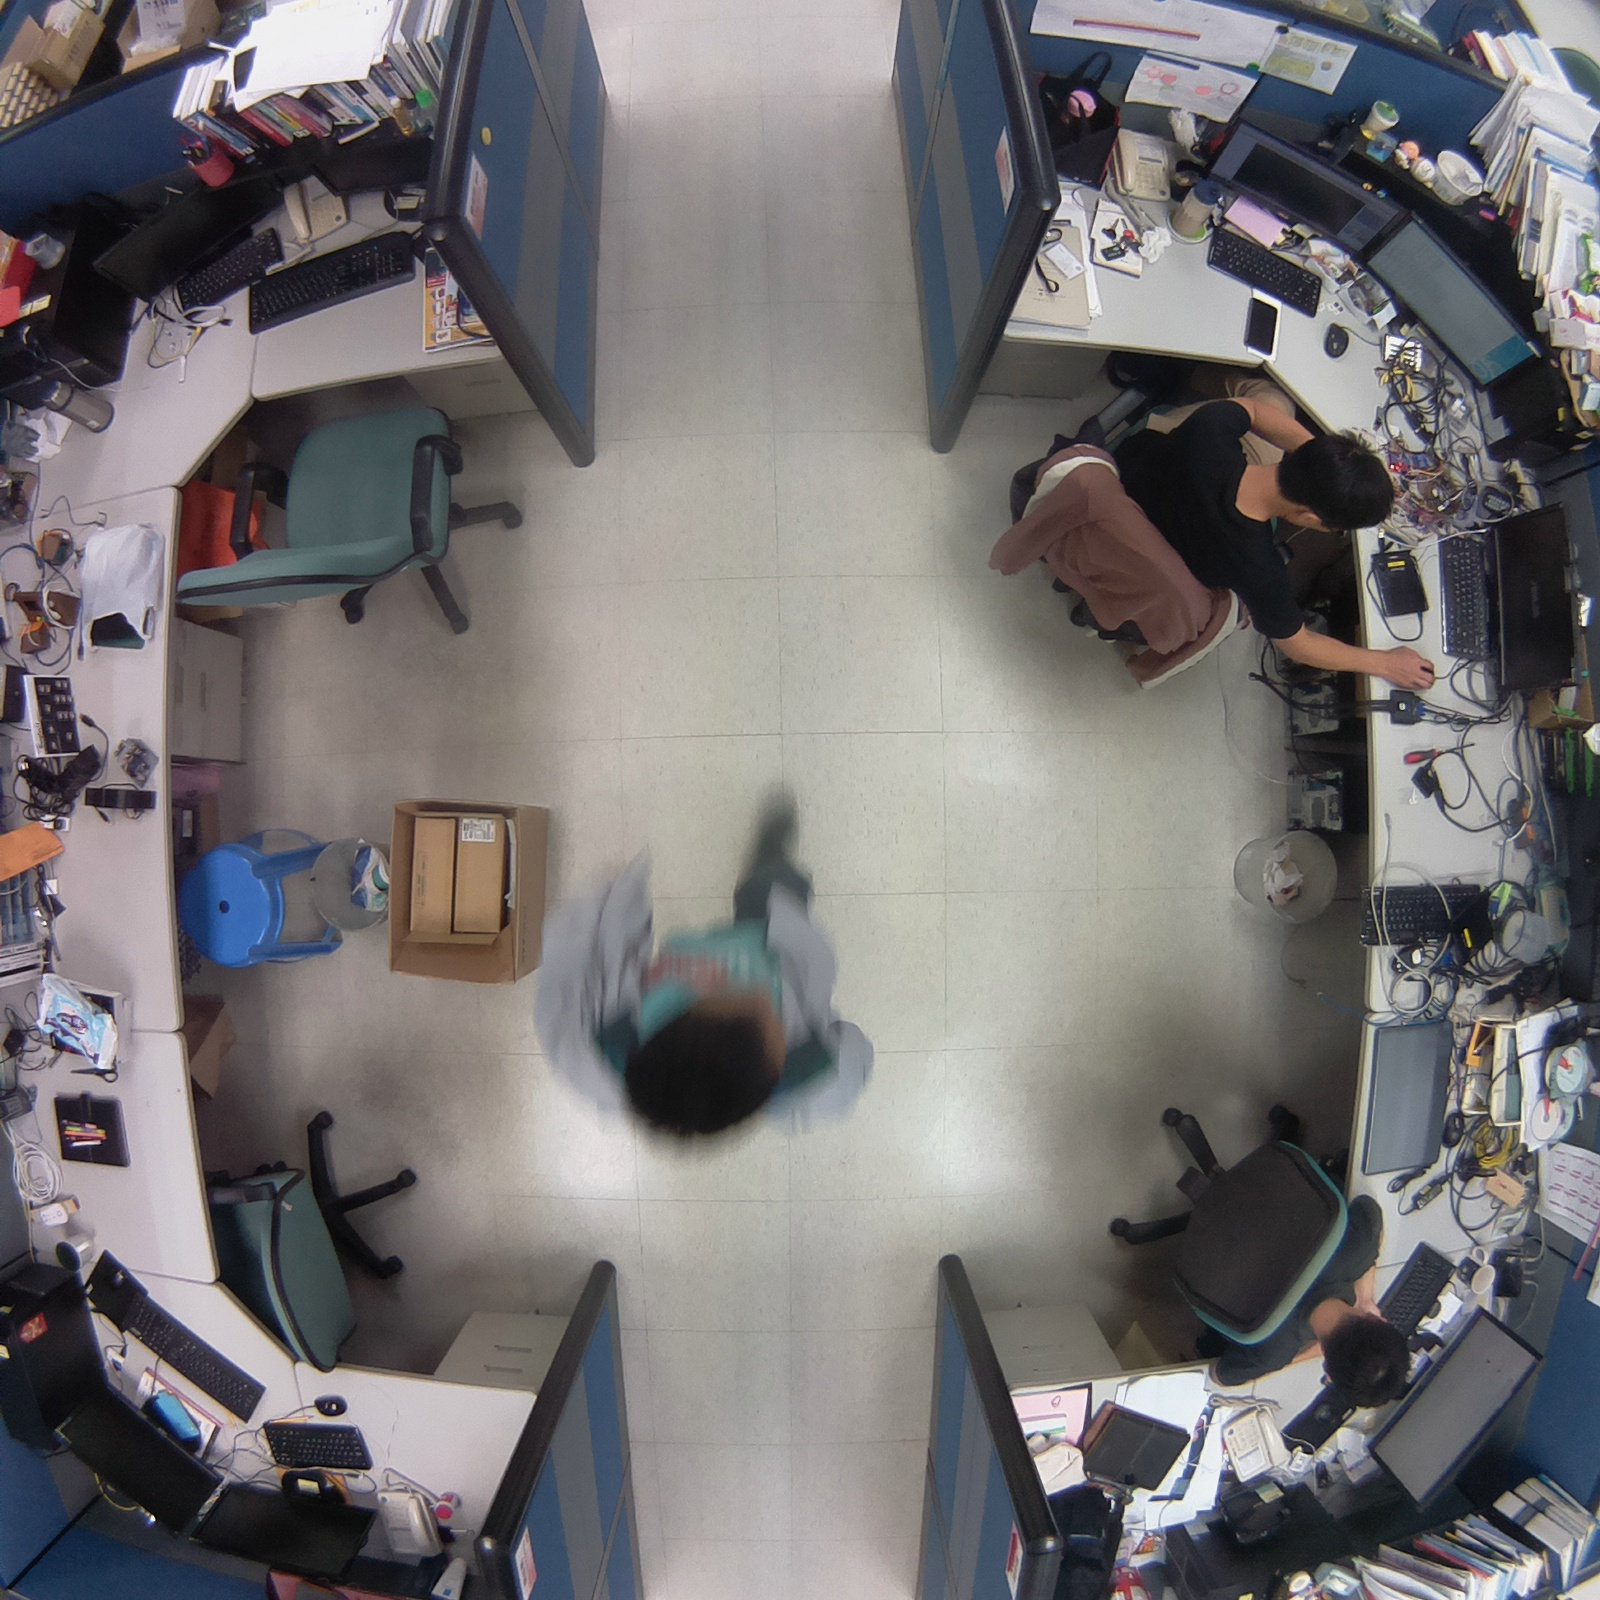chair: (158, 368, 547, 652), (194, 1096, 450, 1381)
head: (615, 990, 794, 1169), (1266, 425, 1403, 541), (1315, 1310, 1423, 1414)
sitting: (965, 364, 1442, 724), (1119, 1055, 1429, 1417)
walking: (524, 770, 891, 1167)
